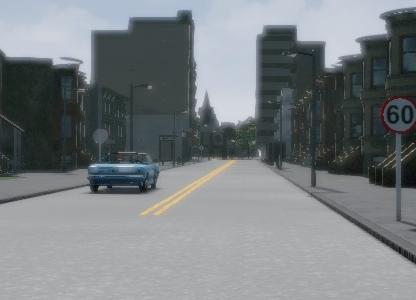Speed_60: (378, 93, 416, 136)
